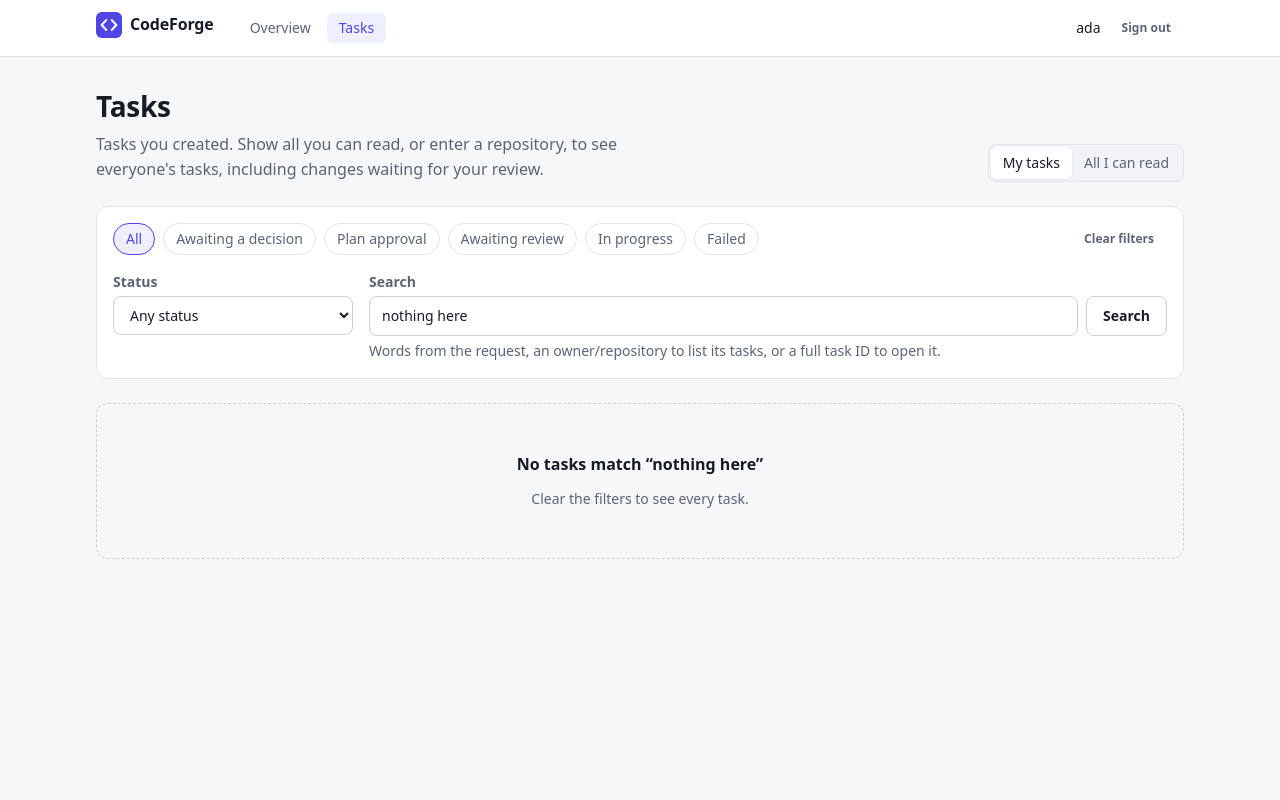
task list › says what was searched for when nothing matches, and clears the search
Expected: the text "No tasks match “nothing here”" is shown, [517,452,763,476]
Expected: the search field labelled "Search" holds "nothing here", [369,296,1078,336]
Click the button "Clear filters": click(1119, 239) [1071,223,1167,255]
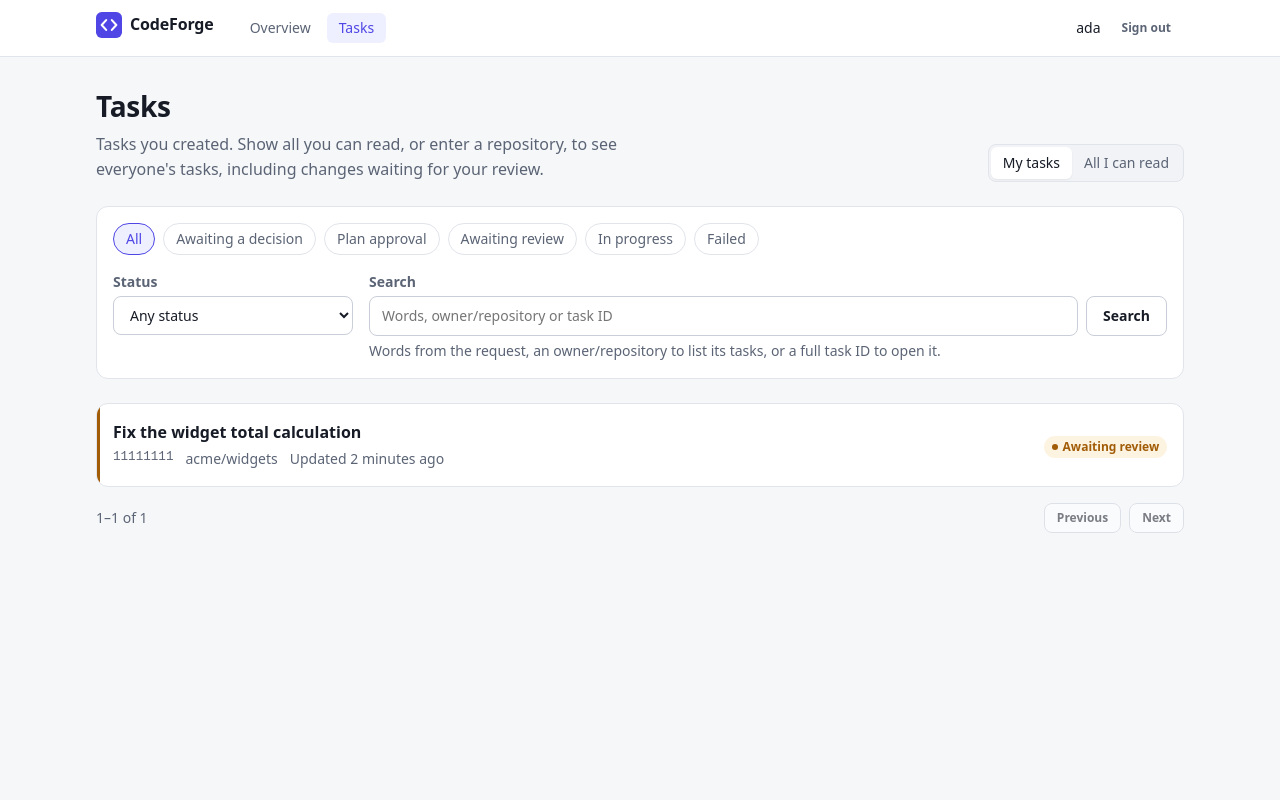
Expected: the list is shown, [96,403,1184,487]
Expected: the search field labelled "Search" is empty, [369,296,1078,336]
